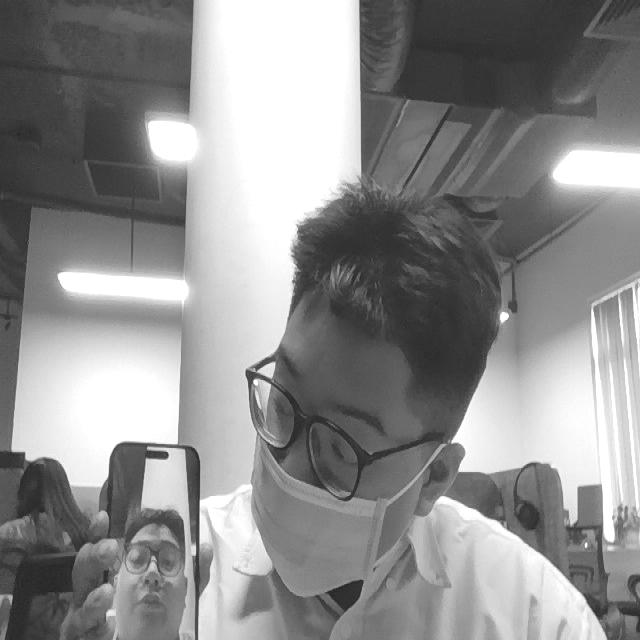fake: (85, 430, 219, 640), (244, 429, 391, 602), (104, 507, 197, 638)
real: (228, 157, 502, 622), (253, 396, 387, 481)
